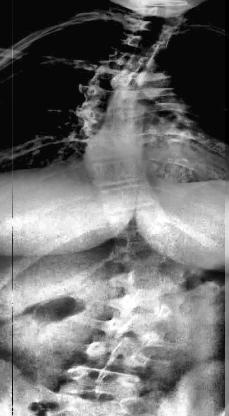Vertebrae: (60, 365, 142, 403), (109, 291, 173, 327), (84, 340, 152, 372), (108, 214, 170, 248), (101, 317, 161, 349), (90, 132, 148, 164), (118, 269, 176, 299), (89, 162, 151, 190), (99, 186, 159, 214), (121, 247, 177, 274), (99, 113, 151, 139), (108, 92, 152, 120), (122, 36, 166, 58), (111, 66, 151, 88), (119, 50, 155, 70)
